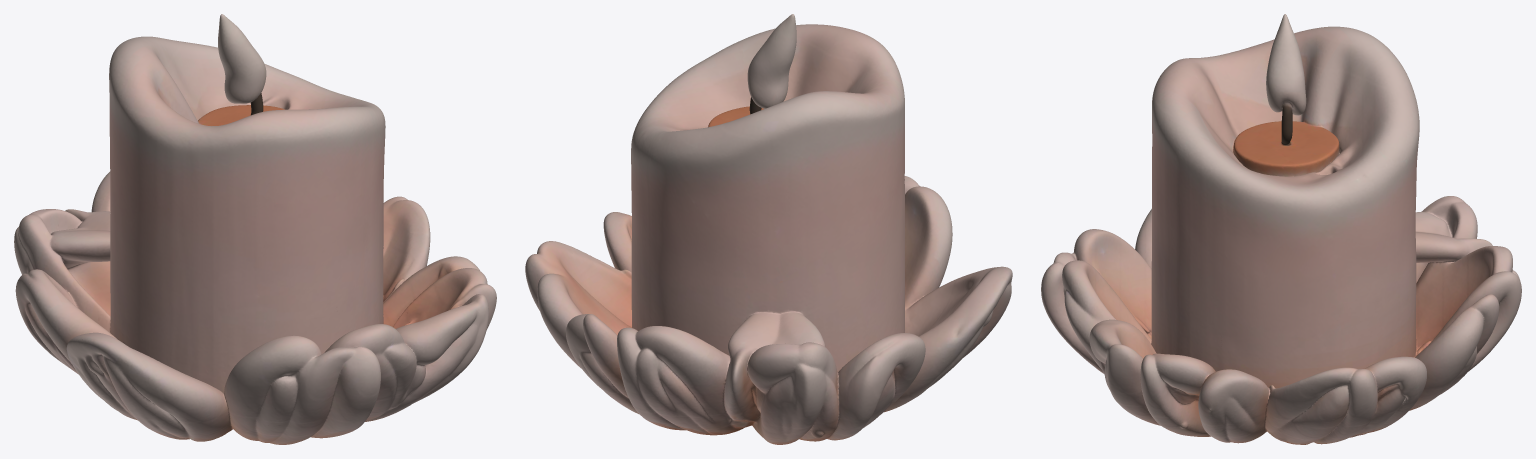
Rendered from detailed_realistic_model_floatingcandles_19.glb.
3 views of the same model, side by side, from view 1: azimuth 30°, elevation 25°; view 2: azimuth 150°, elevation 25°; view 3: azimuth 270°, elevation 25° (orthographic). The views are drawn at different scales.
Parts seen in each view (by area): view 1: tripo_node_3d62b740-33f8-47fb-b388-85ffd8b769a2; view 2: tripo_node_3d62b740-33f8-47fb-b388-85ffd8b769a2; view 3: tripo_node_3d62b740-33f8-47fb-b388-85ffd8b769a2.
Part boxes in pixels (x1=…): tripo_node_3d62b740-33f8-47fb-b388-85ffd8b769a2: x1=14, y1=14, x2=496, y2=444; tripo_node_3d62b740-33f8-47fb-b388-85ffd8b769a2: x1=525, y1=14, x2=1012, y2=444; tripo_node_3d62b740-33f8-47fb-b388-85ffd8b769a2: x1=1041, y1=14, x2=1521, y2=444.
Bounding box in the file's own units: 0.9249 × 0.8859 × 1.
Materials: 1 (1 with a texture image).
